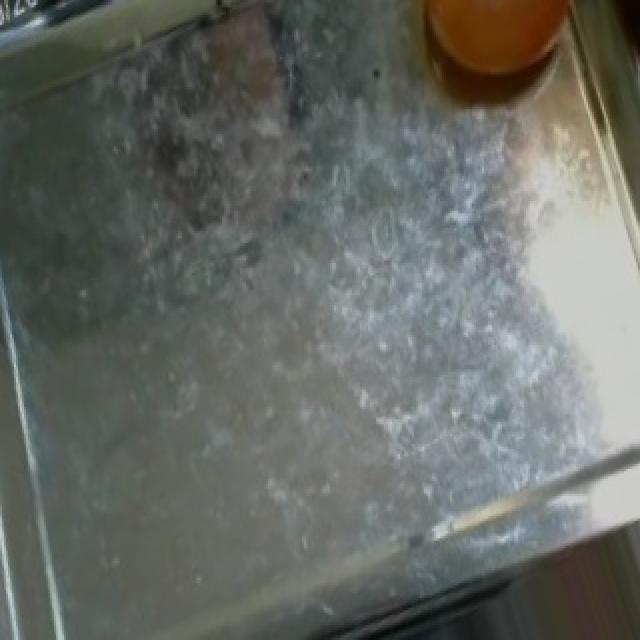Fruit: (378, 3, 606, 124), (36, 0, 258, 69)
